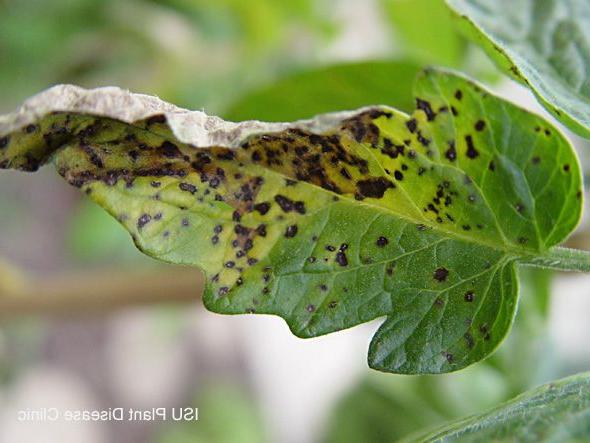Tomato Septoria leaf spot: (6, 49, 587, 383)
